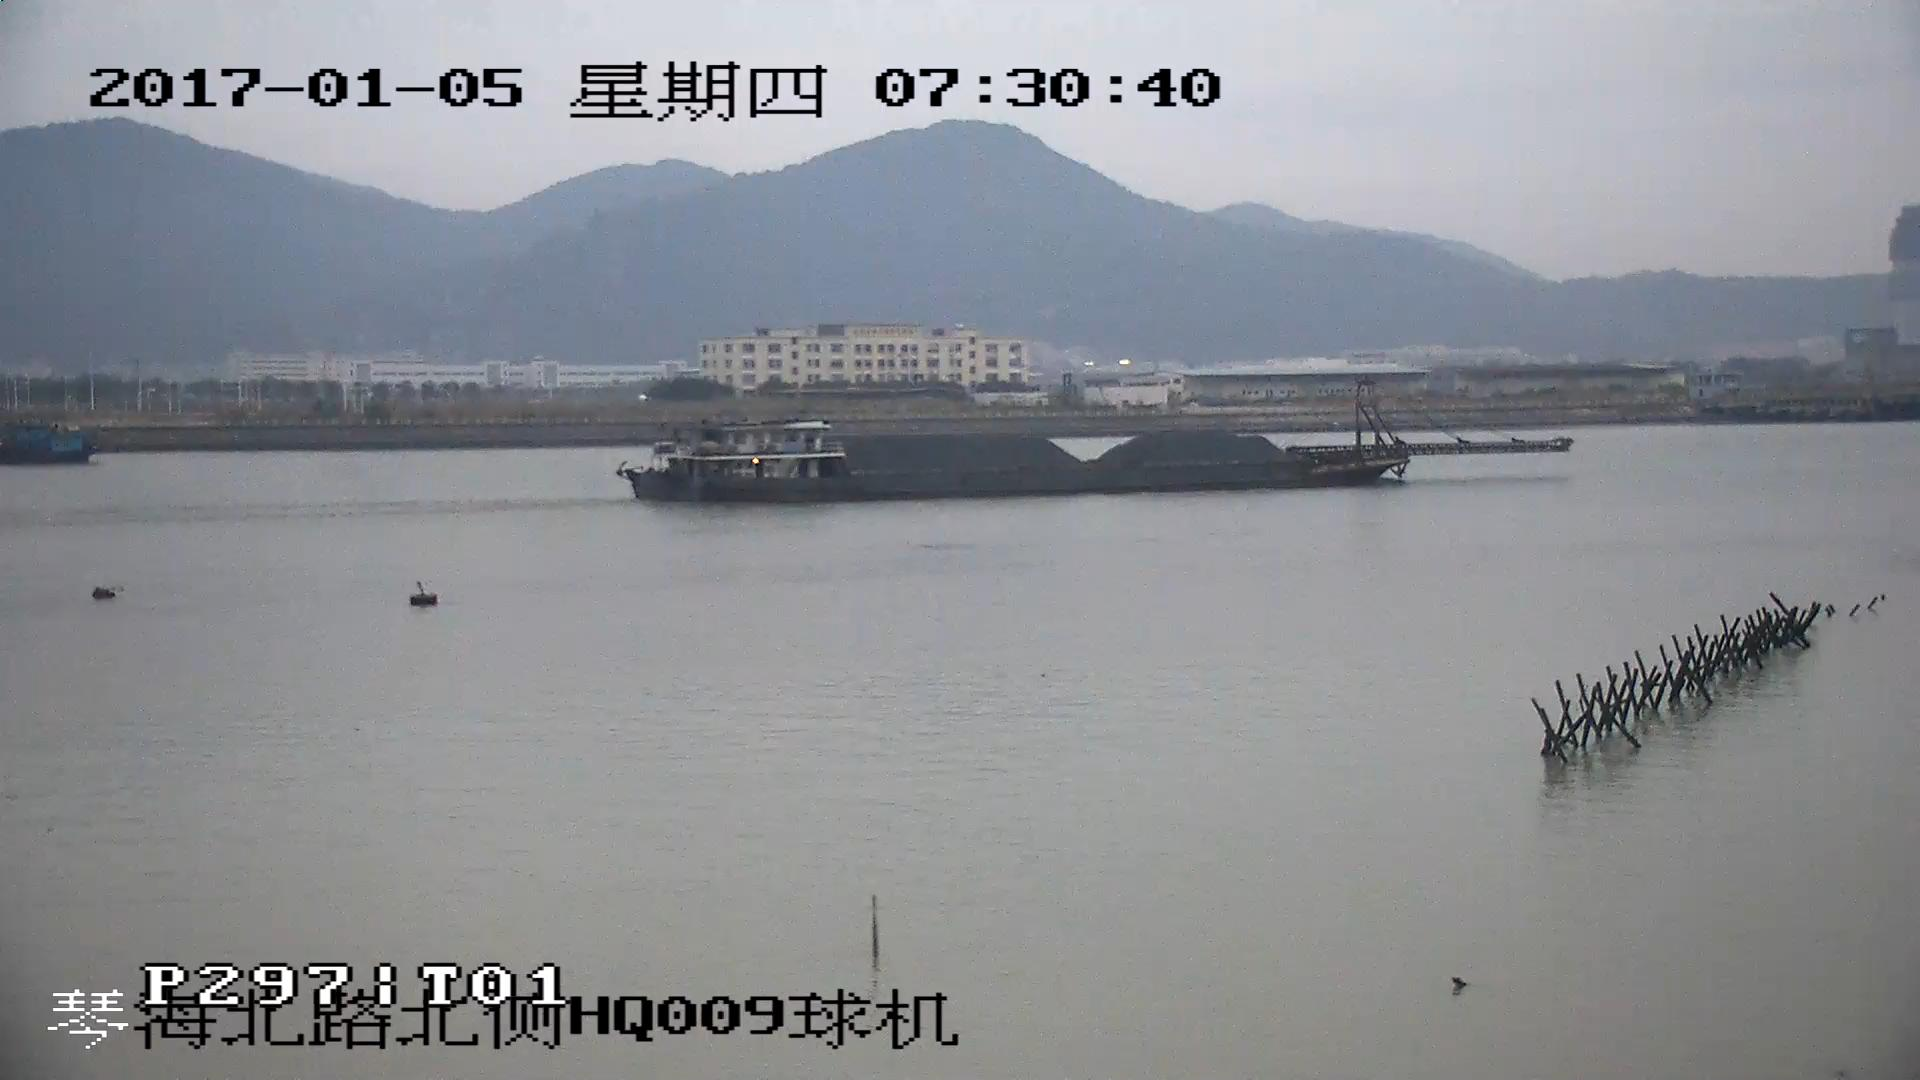ore carrier: (621, 387, 1575, 504)
